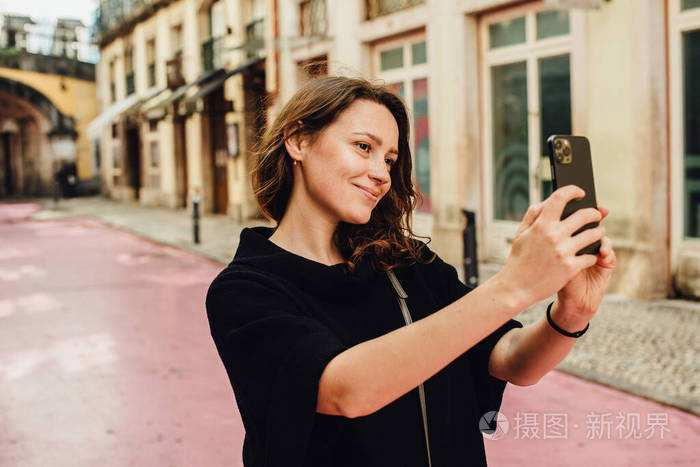taking photos: (493, 127, 619, 318)
